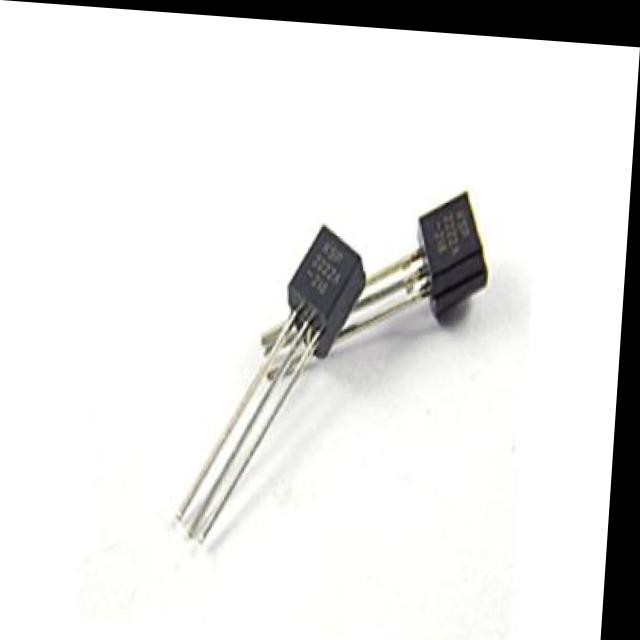Transistor: (265, 221, 372, 429), (420, 185, 492, 322)
